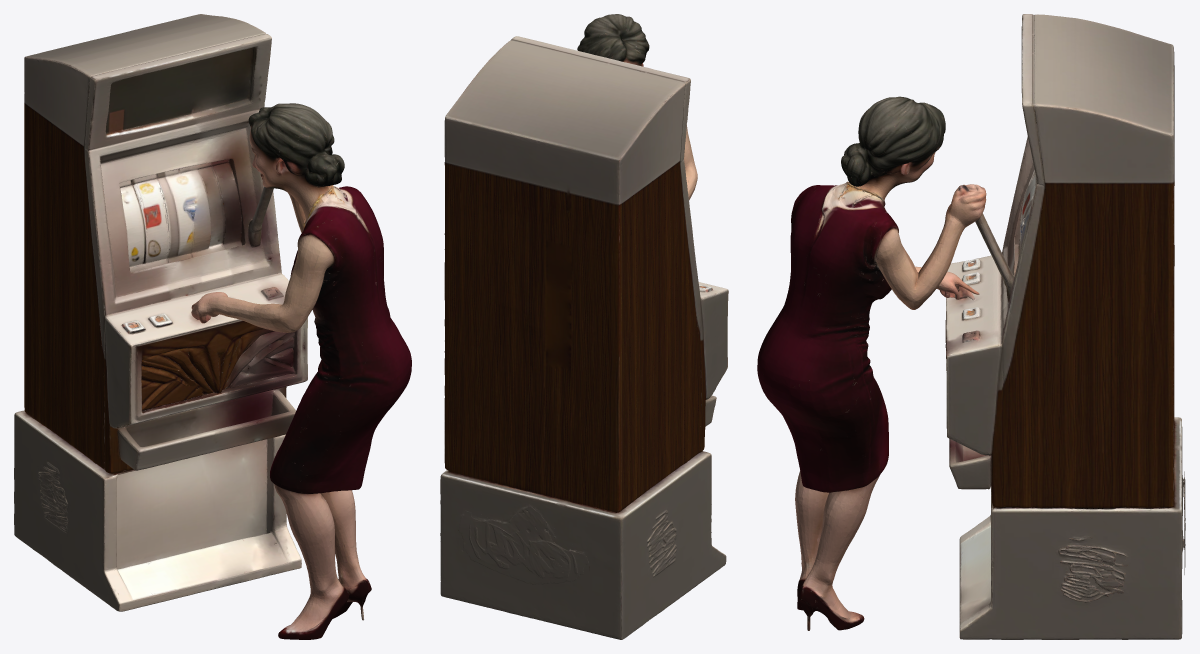
Rendered from occupied_slots_f.glb.
3 views of the same model, side by side, from view 1: azimuth 30°, elevation 25°; view 2: azimuth 150°, elevation 25°; view 3: azimuth 270°, elevation 25° (orthographic). The views are drawn at different scales.
Parts seen in each view (by area): view 1: world; view 2: world; view 3: world.
Part boxes in pixels (x1=…): world: x1=14, y1=14, x2=411, y2=639; world: x1=440, y1=14, x2=728, y2=639; world: x1=757, y1=14, x2=1185, y2=639.
Size of the model in its own units: 0.9091 by 2 by 1.44.
1 material, 1 textured.
